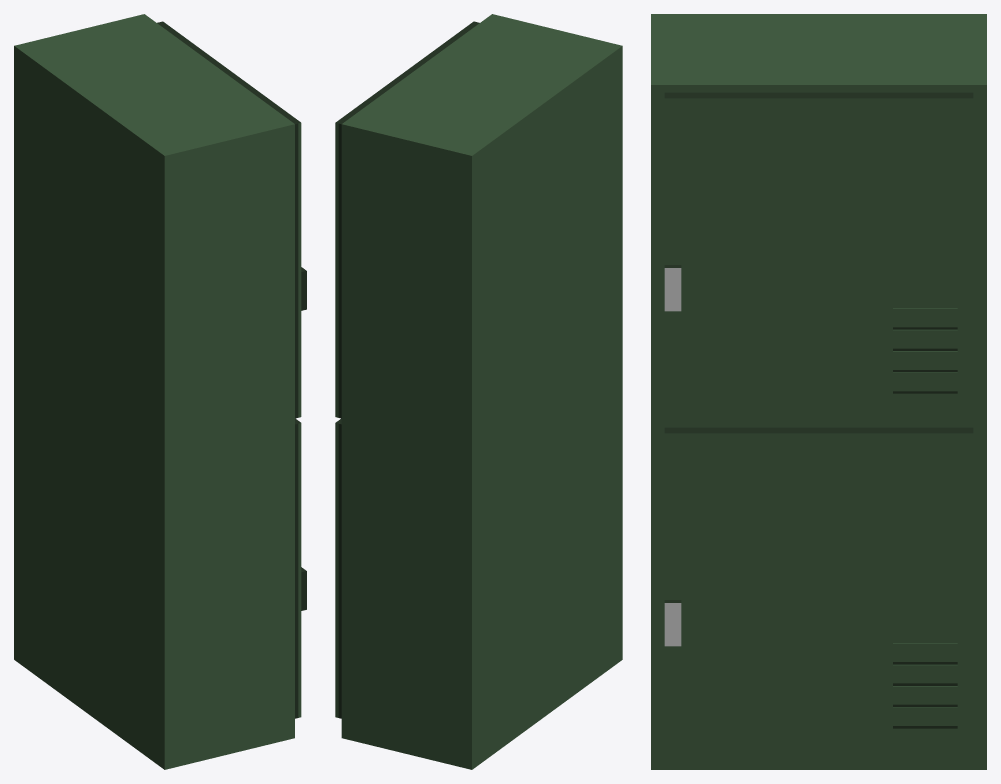
File: militaryWardrobe.fbx
The picture shows the model from 3 angles, left to right: view 1: azimuth 30°, elevation 25°; view 2: azimuth 150°, elevation 25°; view 3: azimuth 270°, elevation 25°; orthographic projection. The views are drawn at different scales.
Visible parts, largest first — view 1: militaryWardrobe_main, militaryWardrobe_doorUp, militaryWardrobe_doorDown; view 2: militaryWardrobe_main, militaryWardrobe_doorUp, militaryWardrobe_doorDown; view 3: militaryWardrobe_doorDown, militaryWardrobe_doorUp, militaryWardrobe_main.
Boxes of the visible parts, x1=… form: militaryWardrobe_main: x1=14, y1=14, x2=294, y2=769; militaryWardrobe_doorUp: x1=157, y1=21, x2=306, y2=418; militaryWardrobe_doorDown: x1=295, y1=418, x2=306, y2=718; militaryWardrobe_main: x1=341, y1=14, x2=622, y2=769; militaryWardrobe_doorUp: x1=335, y1=21, x2=479, y2=418; militaryWardrobe_doorDown: x1=335, y1=418, x2=341, y2=718; militaryWardrobe_doorDown: x1=664, y1=427, x2=973, y2=761; militaryWardrobe_doorUp: x1=664, y1=92, x2=973, y2=426; militaryWardrobe_main: x1=651, y1=14, x2=986, y2=769.
Size of the model in its own units: 56.83 by 225 by 100.
